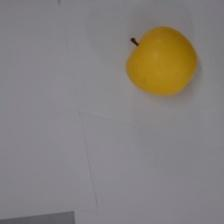yellow: (122, 21, 201, 99)
